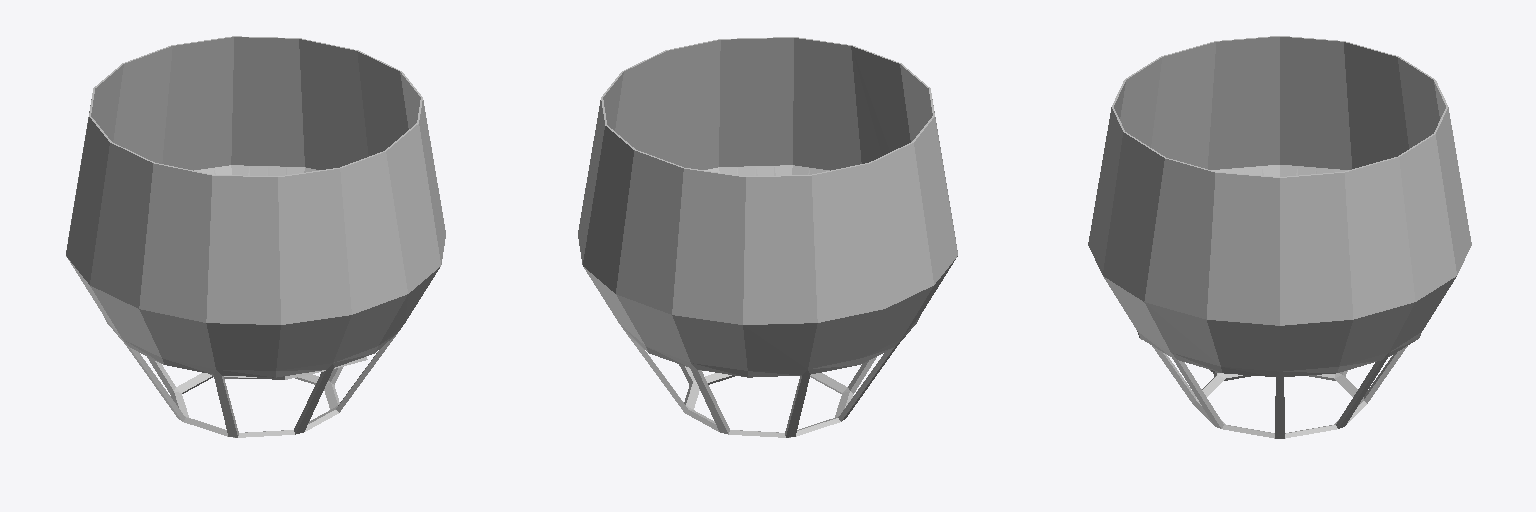
File: Cabin_Tie_Fighter-Bomber.obj
The picture shows the model from 3 angles: view 1: azimuth 30°, elevation 25°; view 2: azimuth 150°, elevation 25°; view 3: azimuth 270°, elevation 25°; orthographic projection.
Visible parts, largest first — view 1: Sphere001; view 2: Sphere001; view 3: Sphere001.
Boxes of the visible parts, x1,y1,x2,y2 form: Sphere001: [66, 36, 445, 437]; Sphere001: [578, 37, 957, 437]; Sphere001: [1088, 36, 1471, 438].
Size of the model in its own units: 24.32 by 20.86 by 24.32.